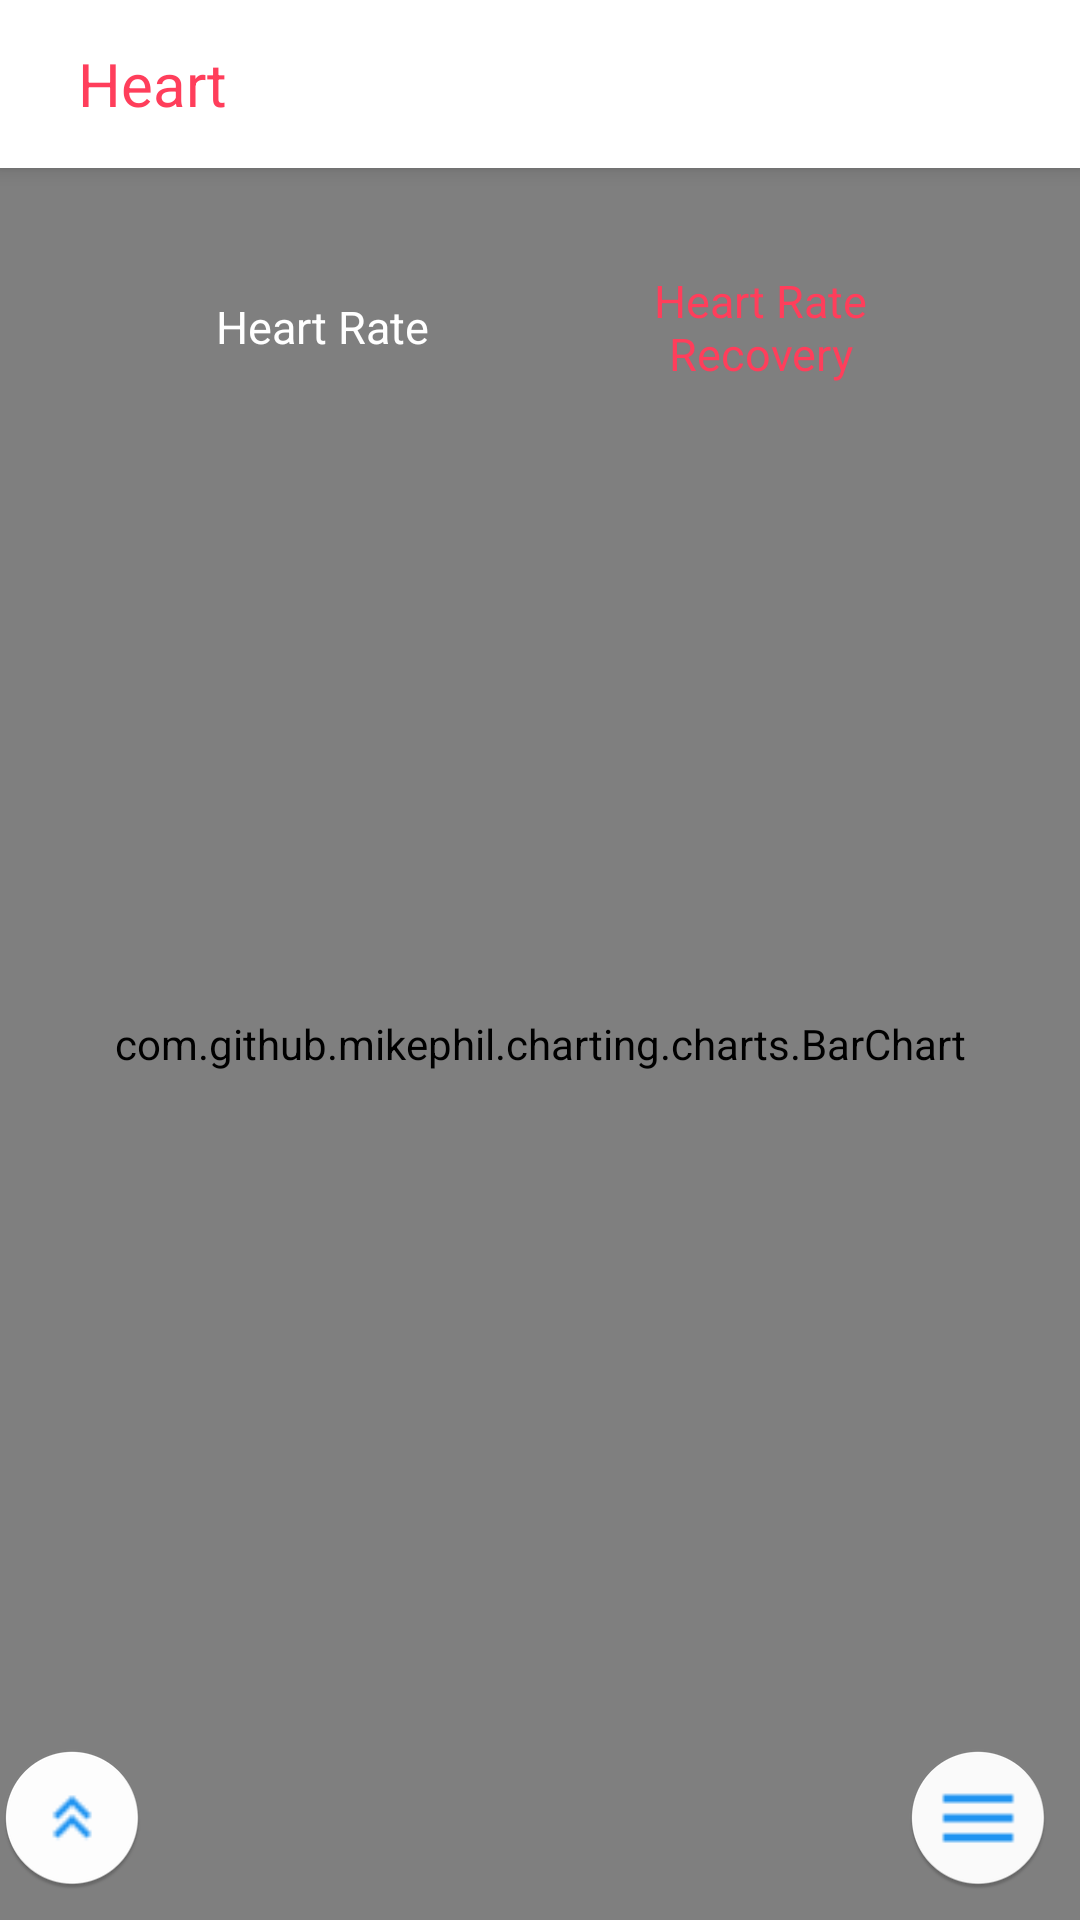

Screen size 1080×1920. Icon name, then its center in pixels as (x=x, y=y):
nav: (x=978, y=1818)
